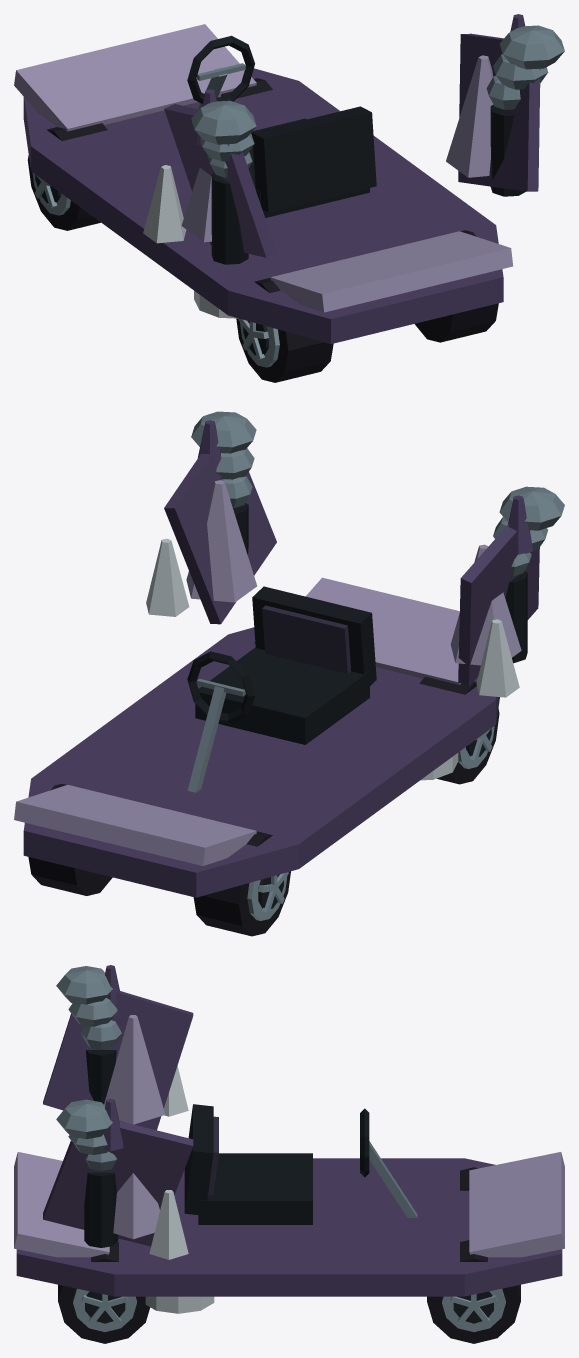
Rendered from kart.glb.
3 views of the same model, one above another, from view 1: azimuth 30°, elevation 25°; view 2: azimuth 150°, elevation 25°; view 3: azimuth 270°, elevation 25° (orthographic). The views are drawn at different scales.
Parts seen in each view (by area): view 1: identity-hoverboard-hoverboard-turned-up-deck, identity-hoverboard-driver-cockpit, identity-hoverboard-motif-smoke, identity-hoverboard-motif-bat-fins, identity-hoverboard-motif-crystals, wheel-rear-left, wheel-front-left, wheel-rear-right; view 2: identity-hoverboard-hoverboard-turned-up-deck, identity-hoverboard-driver-cockpit, identity-hoverboard-motif-bat-fins, identity-hoverboard-motif-crystals, identity-hoverboard-motif-smoke, wheel-front-left, wheel-rear-left, wheel-front-right; view 3: identity-hoverboard-hoverboard-turned-up-deck, identity-hoverboard-motif-bat-fins, identity-hoverboard-driver-cockpit, identity-hoverboard-motif-smoke, identity-hoverboard-motif-crystals, wheel-front-right, wheel-rear-right.
Part boxes in pixels (left/top/right/bottom): identity-hoverboard-hoverboard-turned-up-deck: left=14, top=24, right=513, bottom=343; identity-hoverboard-driver-cockpit: left=187, top=35, right=376, bottom=217; identity-hoverboard-motif-smoke: left=191, top=25, right=564, bottom=264; identity-hoverboard-motif-bat-fins: left=164, top=14, right=540, bottom=257; identity-hoverboard-motif-crystals: left=143, top=55, right=493, bottom=243; wheel-rear-left: left=236, top=278, right=333, bottom=382; wheel-front-left: left=27, top=123, right=107, bottom=230; wheel-rear-right: left=415, top=230, right=498, bottom=342; identity-hoverboard-hoverboard-turned-up-deck: left=14, top=577, right=499, bottom=897; identity-hoverboard-driver-cockpit: left=187, top=586, right=376, bottom=792; identity-hoverboard-motif-bat-fins: left=164, top=420, right=539, bottom=686; identity-hoverboard-motif-crystals: left=146, top=480, right=521, bottom=697; identity-hoverboard-motif-smoke: left=191, top=411, right=564, bottom=663; wheel-front-left: left=193, top=831, right=290, bottom=936; wheel-rear-left: left=419, top=676, right=499, bottom=784; wheel-front-right: left=28, top=784, right=112, bottom=895; identity-hoverboard-hoverboard-turned-up-deck: left=14, top=1152, right=564, bottom=1313; identity-hoverboard-motif-bat-fins: left=43, top=965, right=193, bottom=1246; identity-hoverboard-driver-cockpit: left=184, top=1104, right=417, bottom=1224; identity-hoverboard-motif-smoke: left=56, top=966, right=121, bottom=1247; identity-hoverboard-motif-crystals: left=104, top=1015, right=188, bottom=1259; wheel-front-right: left=427, top=1240, right=520, bottom=1343; wheel-rear-right: left=58, top=1242, right=150, bottom=1343.
Size of the model in its own units: 2.01 by 1.55 by 2.93.
